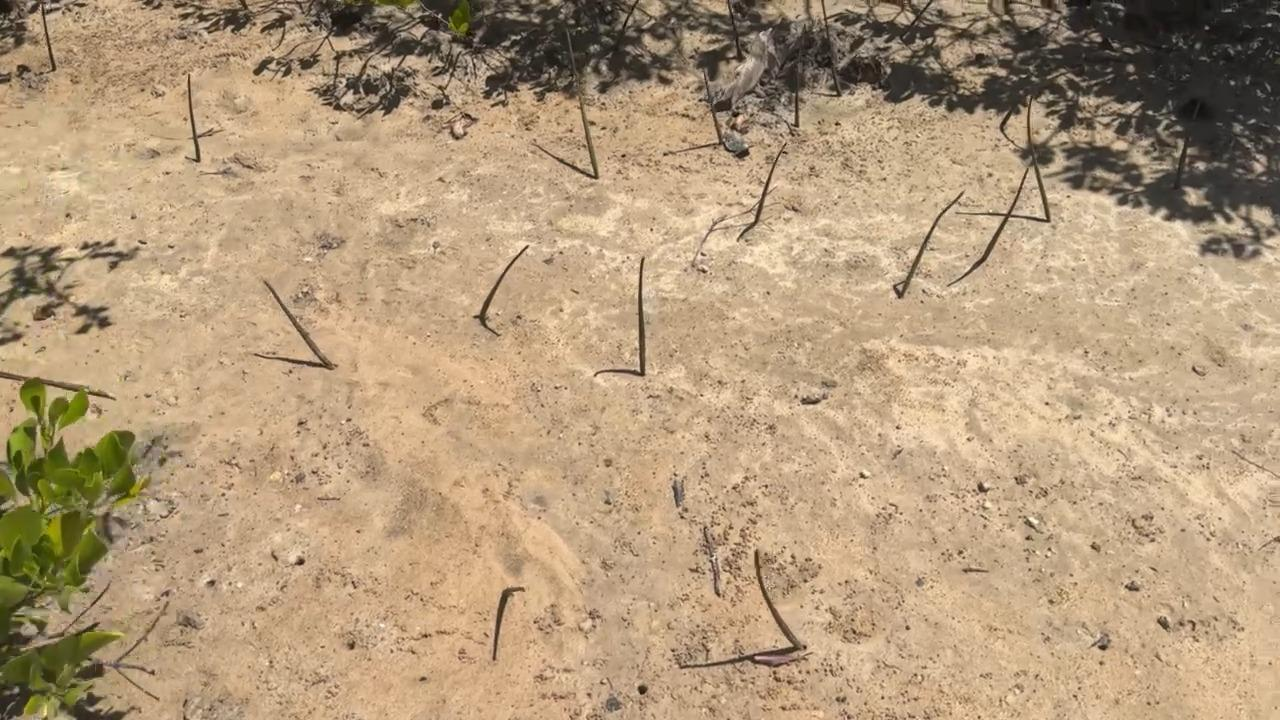Tree: (899, 188, 966, 299), (263, 278, 336, 370), (564, 24, 601, 179), (753, 548, 806, 651), (982, 166, 1030, 262), (999, 71, 1069, 131), (478, 244, 530, 320), (1027, 94, 1052, 223), (1174, 93, 1205, 189), (753, 142, 788, 225), (820, 0, 843, 98), (701, 67, 725, 147), (187, 72, 202, 163), (636, 255, 647, 377), (41, 2, 57, 71), (726, 0, 744, 61), (793, 51, 802, 129), (501, 585, 526, 598)
